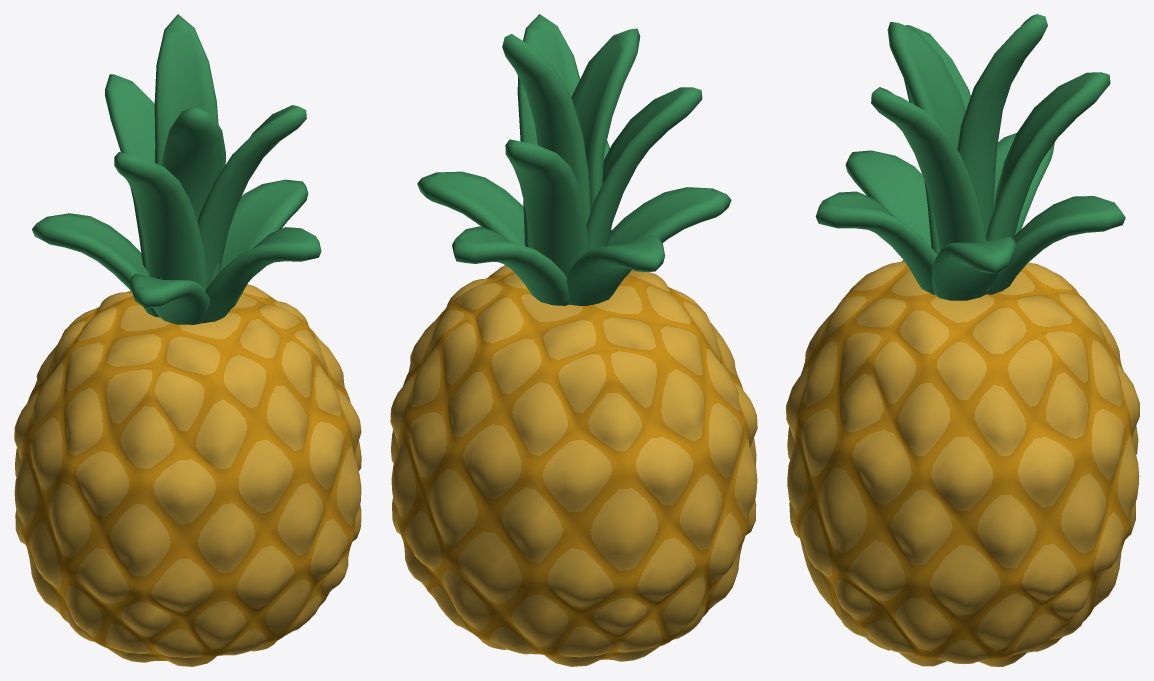
The model's file is Pineapple_01.dae.
3 renders of one model, left to right at view 1: azimuth 30°, elevation 25°; view 2: azimuth 150°, elevation 25°; view 3: azimuth 270°, elevation 25°, orthographic. The views are drawn at different scales.
Visible parts, largest first — view 1: Pineapple_01_LOD0; view 2: Pineapple_01_LOD0; view 3: Pineapple_01_LOD0.
Boxes of the visible parts, x1,y1,x2,y2 form: Pineapple_01_LOD0: (14, 14, 361, 666); Pineapple_01_LOD0: (390, 14, 757, 666); Pineapple_01_LOD0: (786, 14, 1139, 666).
Size of what is drawn, in the model's own units: 4.94 by 4.62 by 9.17.
